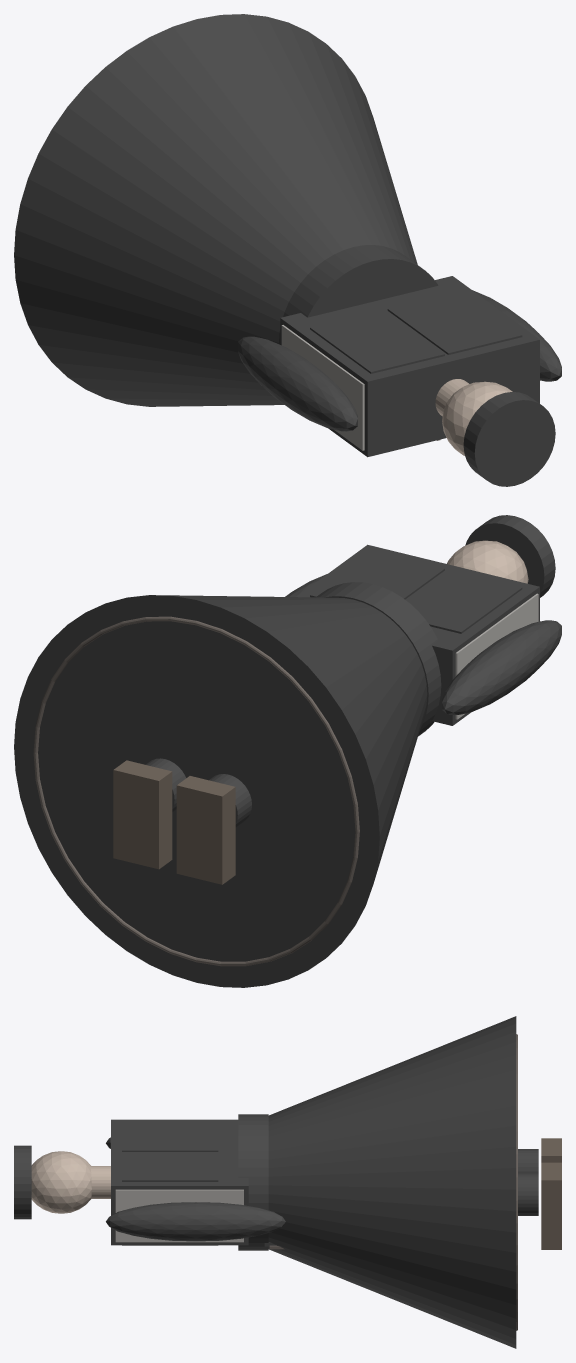
Rendered from MASTER_089_STAGE3_DETAIL.glb.
3 views of the same model, one above another, from view 1: azimuth 30°, elevation 25°; view 2: azimuth 150°, elevation 25°; view 3: azimuth 270°, elevation 25° (orthographic). The views are drawn at different scales.
Visible parts, largest first — view 1: slot_lower_main__fund_i_gjatë, slot_upper_inner__këmishë, slot_headwear__mbulesë_koke, slot_waist__brez, slot_upper_inner_sleeve_L, slot_upper_outer__jelek_R, slot_upper_outer__jelek_L, mannequin_torso, mannequin_head, slot_upper_inner_sleeve_R; view 2: slot_lower_main__fund_i_gjatë, slot_footwear__opinga_R, slot_footwear__opinga_L, slot_upper_inner_sleeve_L, detail_skirt_hem, slot_upper_inner__këmishë, slot_upper_outer__jelek_L, slot_waist__brez, slot_headwear__mbulesë_koke, slot_upper_outer__jelek_R, mannequin_head, mannequin_torso (+2 smaller); view 3: slot_lower_main__fund_i_gjatë, slot_upper_inner_sleeve_R, slot_upper_inner__këmishë, mannequin_head, slot_upper_outer__jelek_R, slot_waist__brez, slot_upper_outer__jelek_L, mannequin_torso, slot_footwear__opinga_R, slot_headwear__mbulesë_koke, slot_legwear__çorape_R, mannequin_neck (+3 smaller).
Boxes of the visible parts, box(x1,y1,x2,y2) form: slot_lower_main__fund_i_gjatë: box(14, 14, 417, 406); slot_upper_inner__këmishë: box(280, 276, 539, 457); slot_headwear__mbulesë_koke: box(463, 392, 555, 486); slot_waist__brez: box(279, 245, 438, 344); slot_upper_inner_sleeve_L: box(238, 336, 357, 431); slot_upper_outer__jelek_R: box(387, 290, 522, 354); slot_upper_outer__jelek_L: box(310, 309, 444, 373); mannequin_torso: box(281, 325, 364, 450); mannequin_head: box(442, 381, 512, 455); slot_upper_inner_sleeve_R: box(472, 290, 561, 381); slot_lower_main__fund_i_gjatë: box(14, 595, 427, 987); slot_footwear__opinga_R: box(113, 760, 172, 869); slot_footwear__opinga_L: box(176, 776, 235, 884); slot_upper_inner_sleeve_L: box(442, 620, 561, 715); detail_skirt_hem: box(33, 616, 359, 966); slot_upper_inner__këmishë: box(296, 544, 539, 725); slot_upper_outer__jelek_L: box(406, 569, 522, 633); slot_waist__brez: box(316, 582, 441, 736); slot_headwear__mbulesë_koke: box(465, 515, 555, 597); slot_upper_outer__jelek_R: box(310, 550, 444, 599); mannequin_head: box(447, 540, 528, 583); mannequin_torso: box(455, 593, 538, 719); slot_lower_main__fund_i_gjatë: box(268, 1016, 516, 1348); slot_upper_inner_sleeve_R: box(106, 1202, 285, 1241); slot_upper_inner__këmishë: box(111, 1119, 248, 1245); mannequin_head: box(31, 1151, 91, 1213); slot_upper_outer__jelek_R: box(122, 1152, 218, 1245); slot_waist__brez: box(238, 1114, 268, 1250); slot_upper_outer__jelek_L: box(122, 1122, 218, 1151); mannequin_torso: box(115, 1189, 243, 1242); slot_footwear__opinga_R: box(541, 1162, 561, 1249); slot_headwear__mbulesë_koke: box(14, 1145, 31, 1219); slot_legwear__çorape_R: box(518, 1173, 538, 1215); mannequin_neck: box(91, 1166, 110, 1198).
Size of the model in its own units: 1.04 by 1.04 by 1.71.
